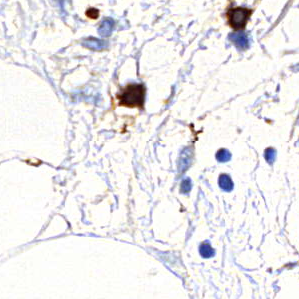Lymphocyte: (224, 4, 252, 28)
